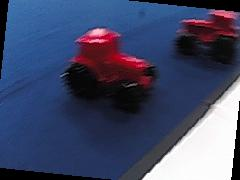Tracktor: (62, 24, 159, 105), (174, 6, 238, 58)
